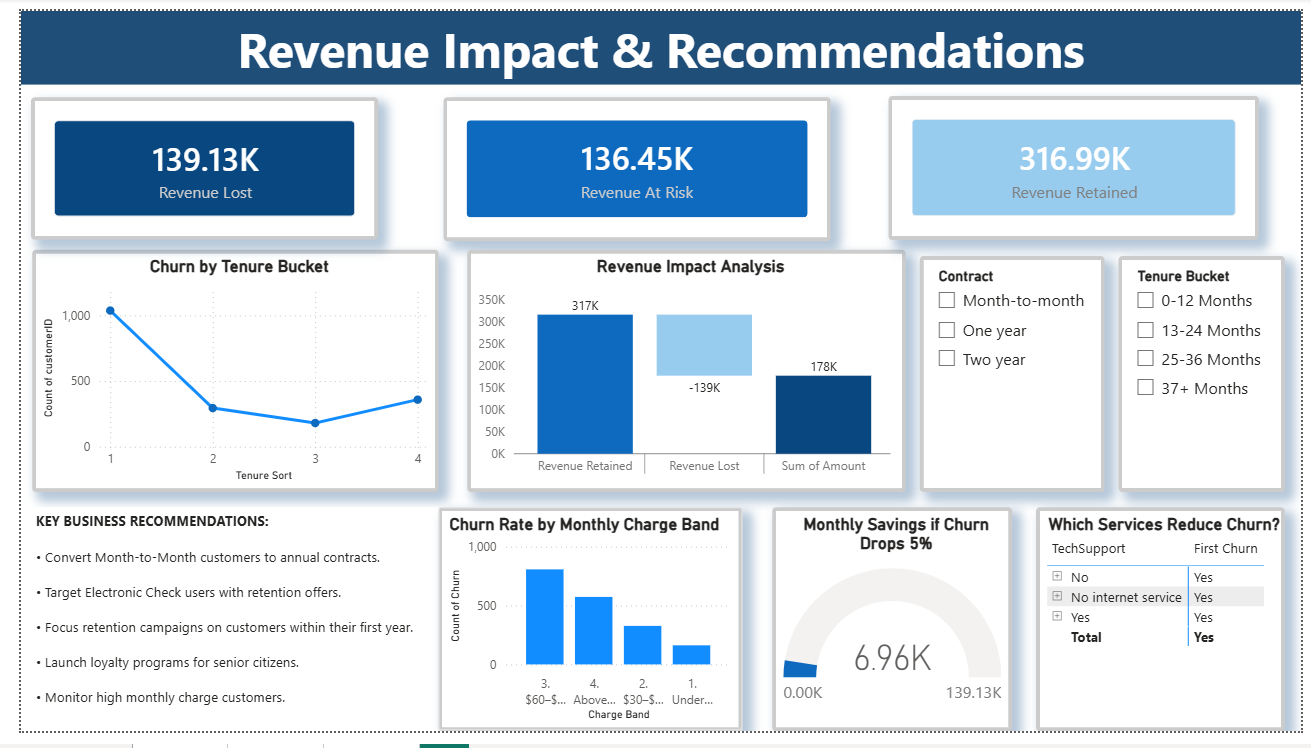

What the dashboard file says about the page in this screenshot:
{"tool":"powerbi","page":{"name":"Page 3","canvas":[1280,720],"ordinal":2},"visuals":[{"type":"textbox","box":[0,0,1280,73.8],"z":0},{"type":"cardVisual","fields":{"Data":["customer_churn.Revenue At Risk"]},"box":[422.5,86.2,387.5,143.8],"z":1000},{"type":"SimpleWaterfall","title":"Revenue Impact Analysis","fields":{"measure":["Sum(Revenue_Summary.Amount)"],"category":["Revenue_Summary.Category"]},"box":[446.2,238.8,438.8,242.5],"z":2000},{"type":"lineChart","title":"Churn by Tenure Bucket","fields":{"Y":["CountNonNull(customer_churn.customerID)"],"Category":["customer_churn.Tenure Sort"]},"box":[11.2,238.8,406.2,242.5],"z":3000},{"type":"cardVisual","fields":{"Data":["customer_churn.Revenue Lost"]},"box":[10,86.2,347.5,142.5],"z":4000},{"type":"cardVisual","fields":{"Data":["customer_churn.Revenue Retained"]},"box":[867.5,85,370,143.8],"z":5000},{"type":"textbox","box":[10,496.2,407.5,223.8],"z":6000},{"type":"clusteredColumnChart","title":"Churn Rate by Monthly Charge Band","fields":{"Category":["customer_churn.Charge Band"],"Y":["CountNonNull(customer_churn.Churn)"]},"box":[417.5,496.2,303.8,223.8],"z":7000},{"type":"slicer","fields":{"Values":["customer_churn.Contract"]},"box":[898.8,245,185,236.2],"z":8000},{"type":"slicer","fields":{"Values":["customer_churn.Tenure Bucket"]},"box":[1097.5,245,166.2,236.2],"z":9000},{"type":"pivotTable","title":"Which Services Reduce Churn?","fields":{"Values":["Min(customer_churn.Churn)"],"Rows":["customer_churn.TechSupport","customer_churn.StreamingTV","customer_churn.OnlineSecurity","customer_churn.PhoneService"]},"box":[1015,496.2,248.8,223.8],"z":10000},{"type":"gauge","title":"Monthly Savings if Churn Drops 5%","fields":{"Y":["customer_churn.Retention Opportunity (5% Improvement)"],"MaxValue":["customer_churn.Monthly Revenue Lost"]},"box":[751.2,496.2,240,223.8],"z":11000}]}

Visuals, with their boxes in screenshot pixels (x1, y1, x2, y2), scaled from the page's 1280x720 canvas onto the 1311x748 screenshot:
textbox: 0 0 1310 77
cardVisual - customer_churn.Revenue At Risk: 433 90 830 239
"Revenue Impact Analysis" SimpleWaterfall: 457 248 906 500
"Churn by Tenure Bucket" lineChart: 11 248 428 500
cardVisual - customer_churn.Revenue Lost: 10 90 366 238
cardVisual - customer_churn.Revenue Retained: 889 88 1267 238
textbox: 10 515 428 747
"Churn Rate by Monthly Charge Band" clusteredColumnChart: 428 515 739 747
slicer - customer_churn.Contract: 921 255 1110 500
slicer - customer_churn.Tenure Bucket: 1124 255 1294 500
"Which Services Reduce Churn?" pivotTable: 1040 515 1294 747
"Monthly Savings if Churn Drops 5%" gauge: 769 515 1015 747
